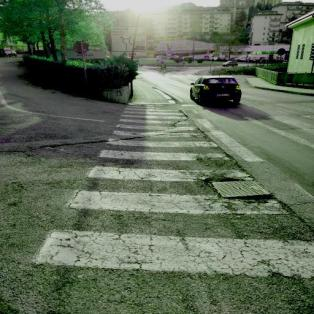Paso de Cebra: (20, 184, 314, 282), (96, 137, 232, 164)
